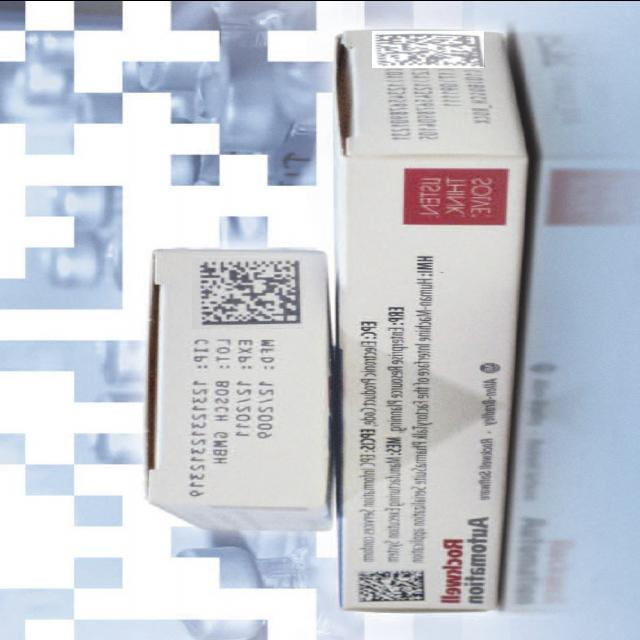DataMatrix: (192, 257, 303, 328), (372, 30, 484, 67), (354, 568, 427, 603)
